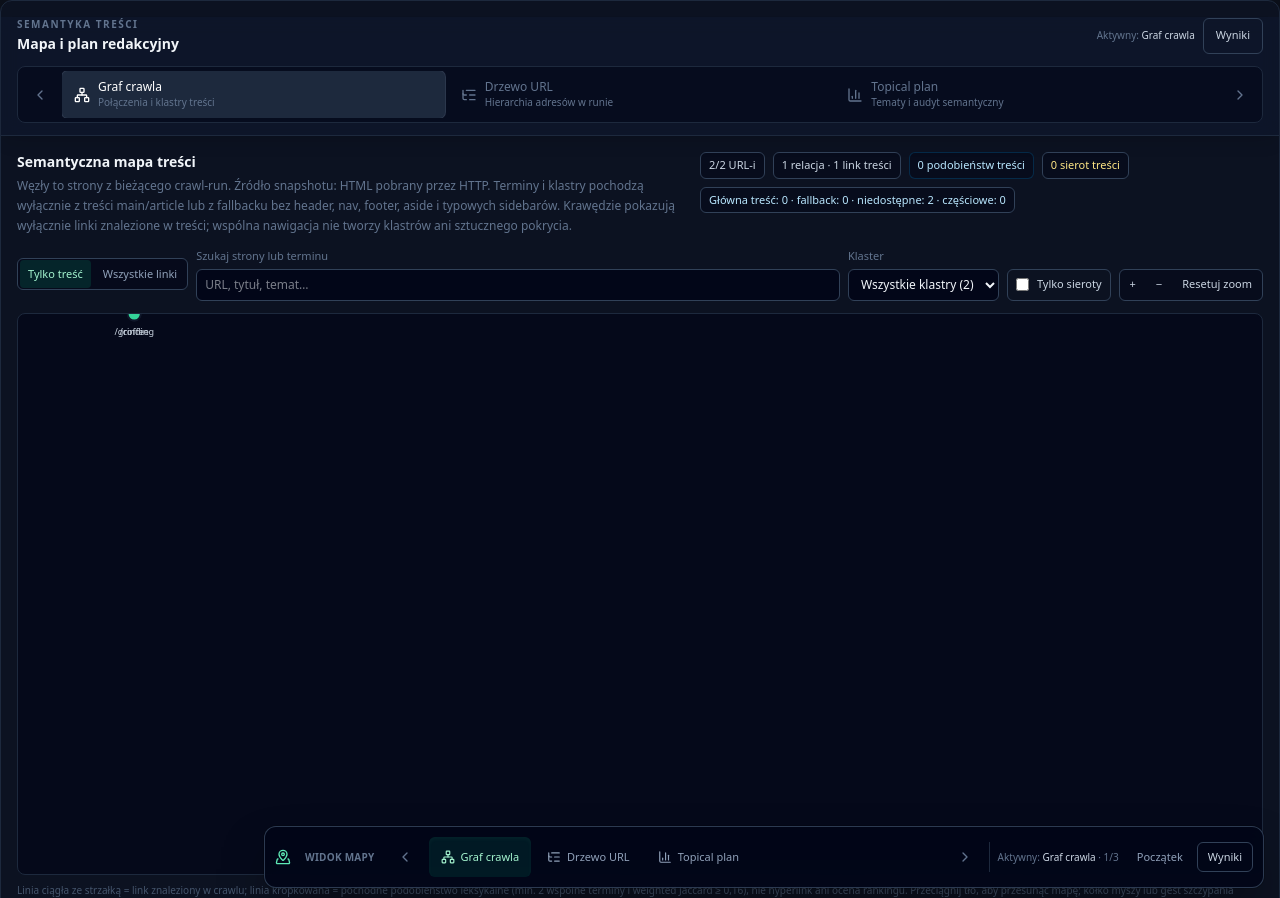
Test case: CrawlArchitectureGraph › filters localized terms without requiring diacritics
Type "zolc" into the field named "Szukaj strony lub terminu na mapie". click: [518, 284]
box: [196, 268, 840, 300]
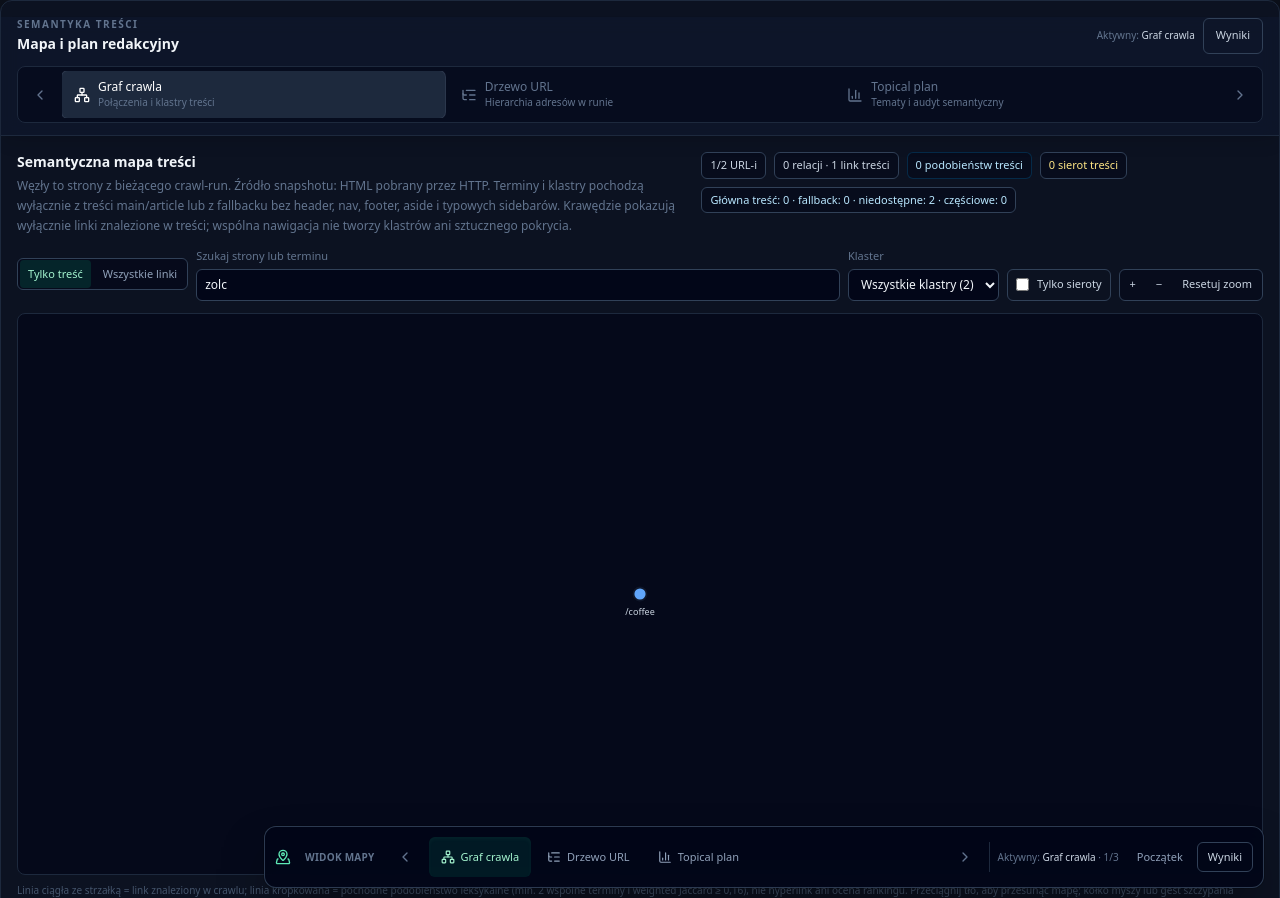
Expected: the text "1/2 URL-i" is shown, [701, 152, 766, 178]
Expected: the picture "/grinding" is gone
